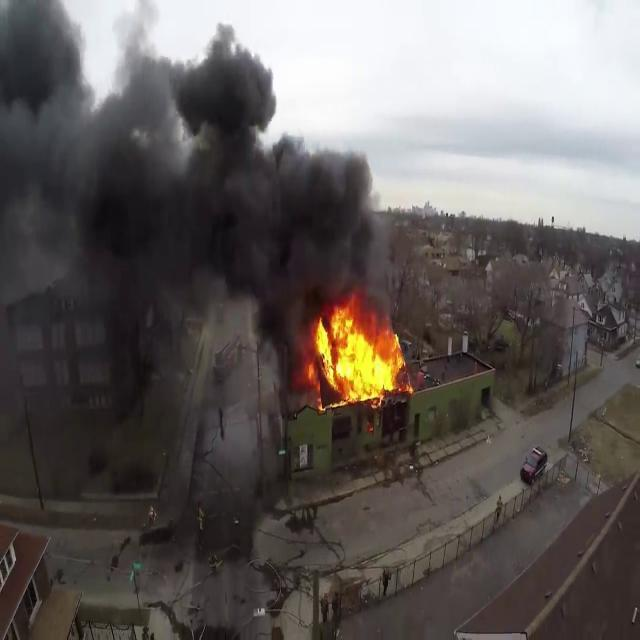Fire: (306, 301, 412, 408)
Smoke: (0, 0, 393, 370)
